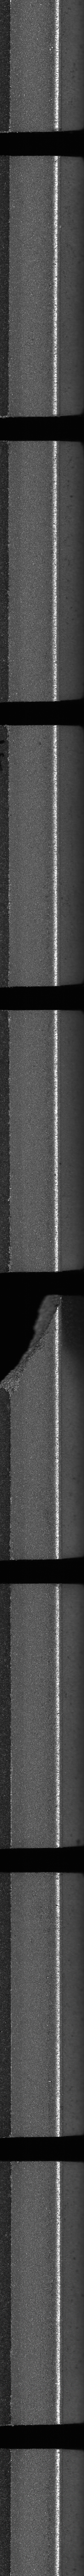Chip: (0, 1294, 62, 1397)
